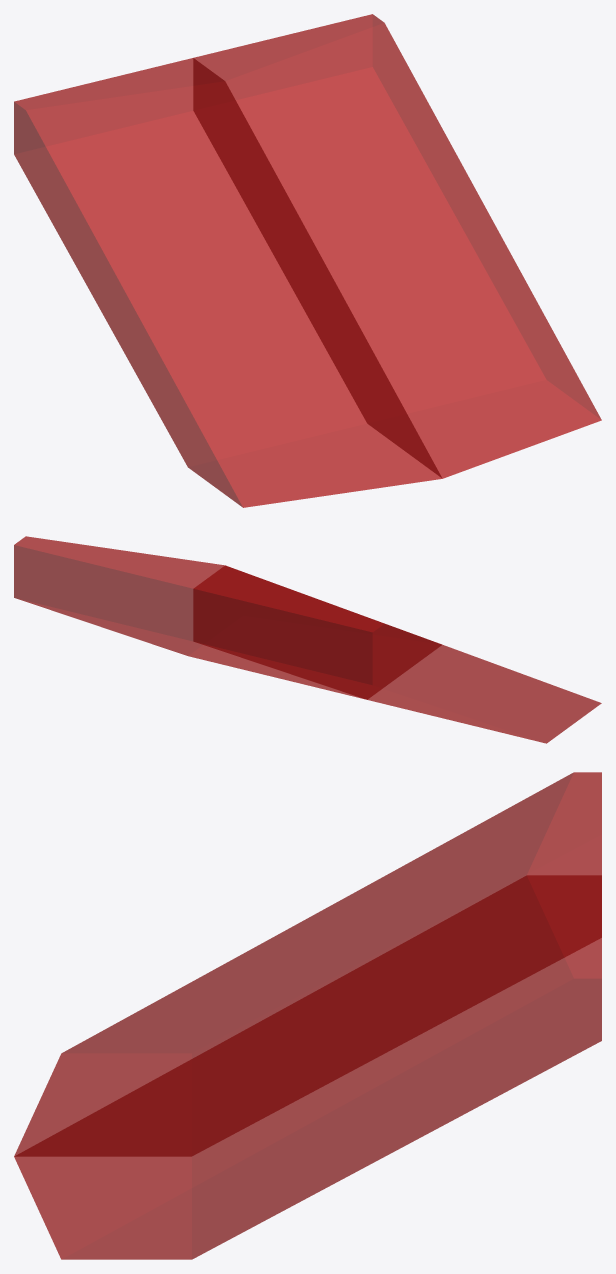
Rendered from SM_Bld_Stairs_02_Collision.fbx.
The picture shows the model from 3 angles, top to bottom: view 1: azimuth 30°, elevation 25°; view 2: azimuth 150°, elevation 25°; view 3: azimuth 270°, elevation 25°; orthographic projection. The views are drawn at different scales.
Parts seen in each view (by area): view 1: SM_Bld_Stairs_02_Collision; view 2: SM_Bld_Stairs_02_Collision; view 3: SM_Bld_Stairs_02_Collision.
Boxes of the visible parts, left/top/right/bottom form: SM_Bld_Stairs_02_Collision: left=14, top=14, right=601, bottom=507; SM_Bld_Stairs_02_Collision: left=14, top=536, right=601, bottom=743; SM_Bld_Stairs_02_Collision: left=14, top=772, right=601, bottom=1259.
Bounding box in the file's own units: 250 × 159 × 301.
